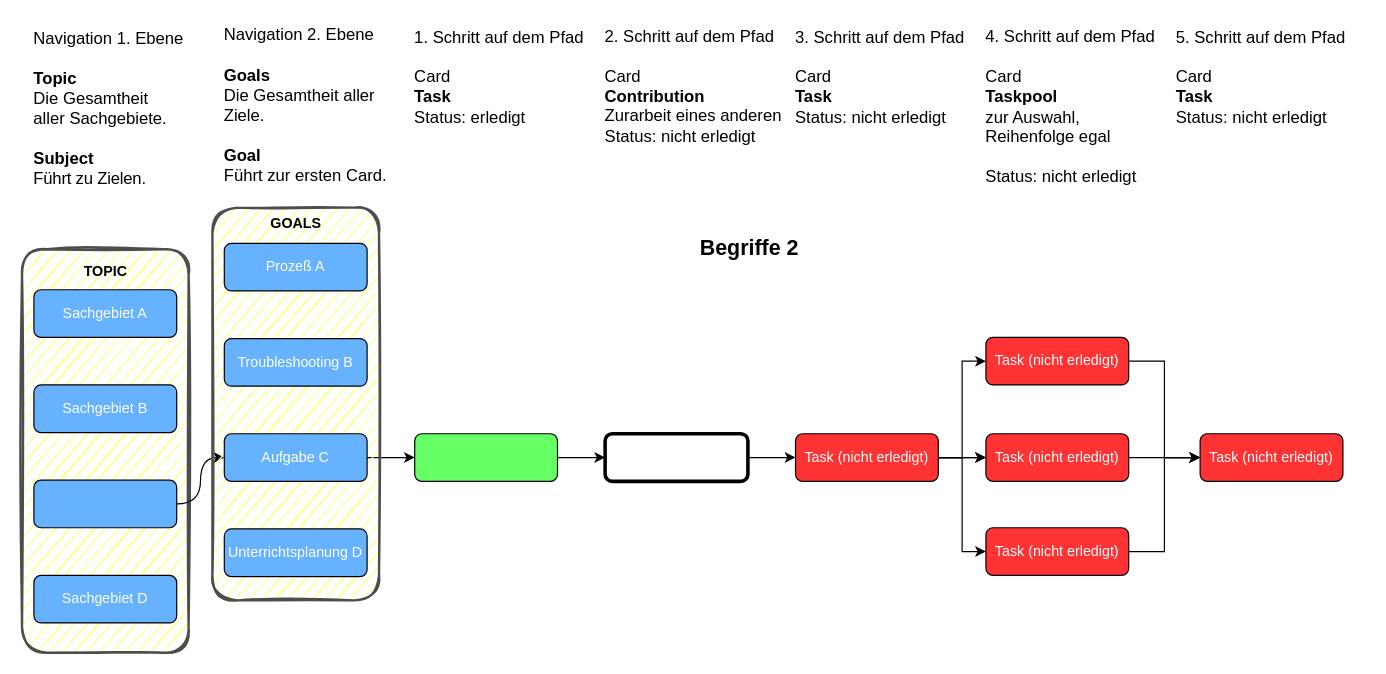
Some shapes in this 1386 by 674 pixel diagram are drawn without their labels. Here are the shapes that lost their labels. From the top down, the centre of each, then its label:
At [486,457]: "Task (erledigt)".
At [676,457]: "Contribution (nicht erledigt)".
At [105,503]: "Sachgebiet C".
